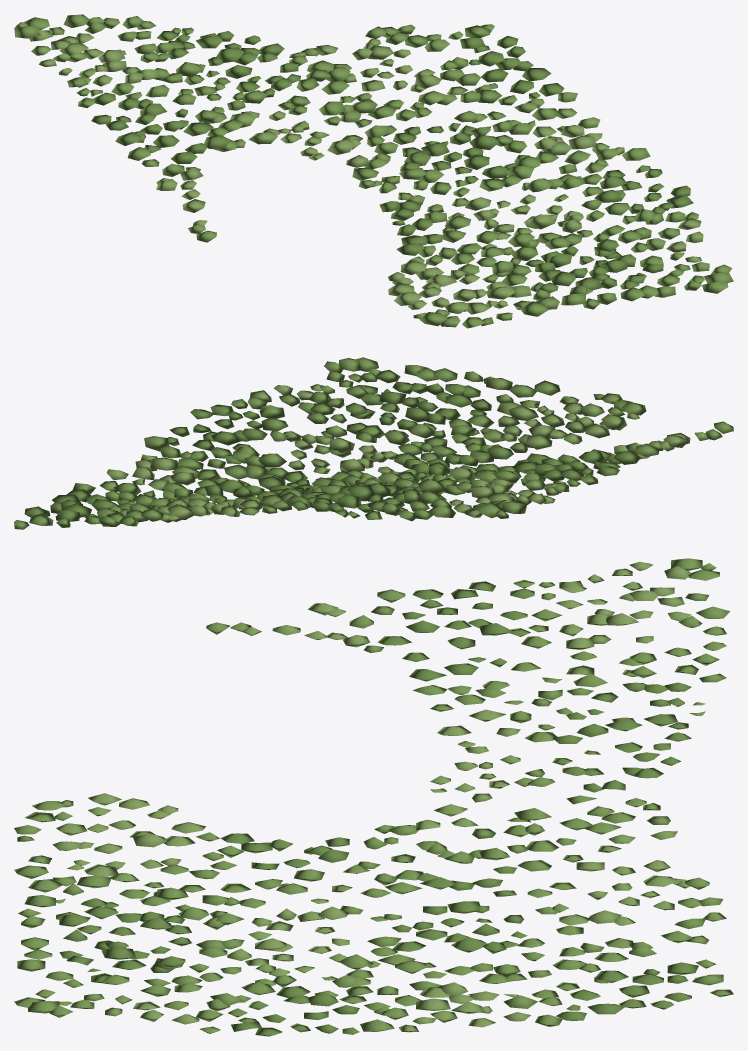
The model's file is canopy-1-3--3.glb.
3 views of the same model, one above another, from view 1: azimuth 30°, elevation 25°; view 2: azimuth 150°, elevation 25°; view 3: azimuth 270°, elevation 25° (orthographic). The views are drawn at different scales.
Size of the model in its own units: 518 by 160 by 515.
1 material, 1 textured.
